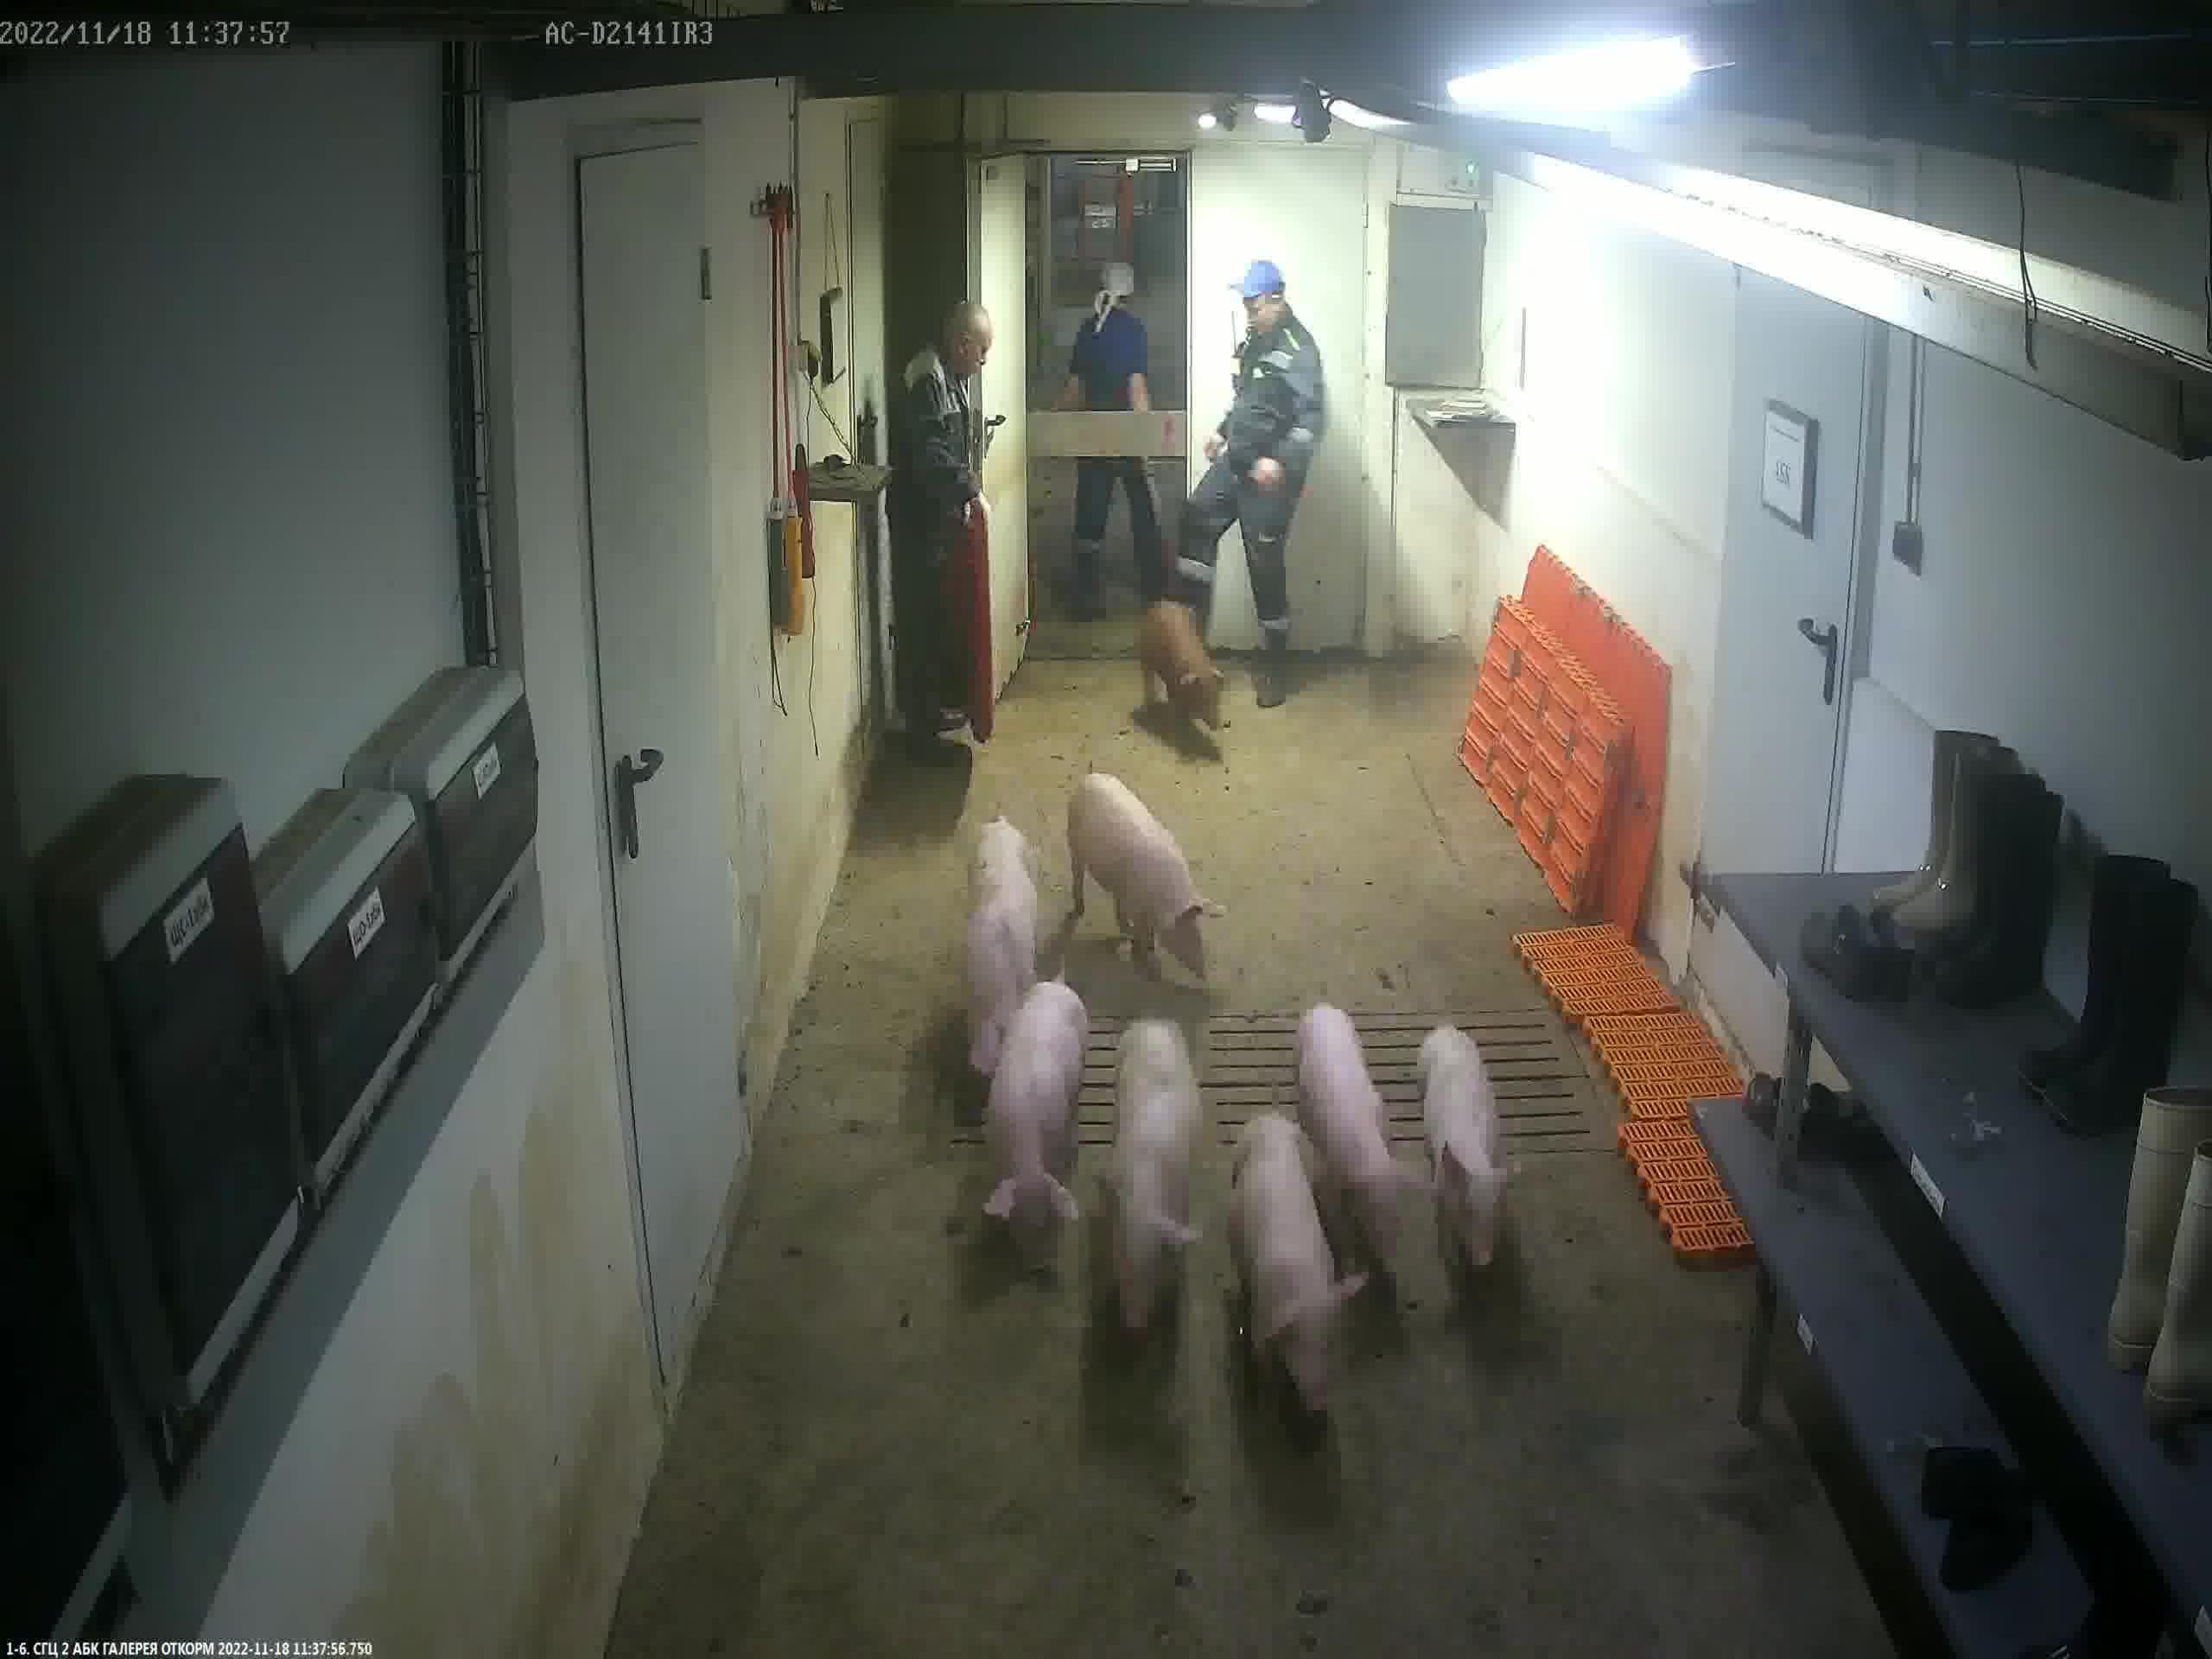Pigs: (1231, 1114, 1362, 1412), (1299, 1004, 1430, 1269), (1066, 774, 1228, 978), (1108, 1019, 1204, 1330), (982, 981, 1085, 1227), (1425, 1026, 1522, 1267), (970, 821, 1036, 1073), (1141, 601, 1223, 739)
